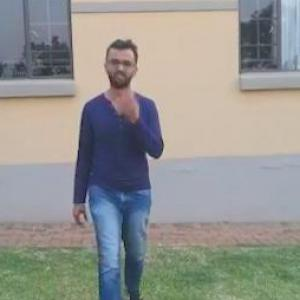follow: (88, 42, 166, 299)
